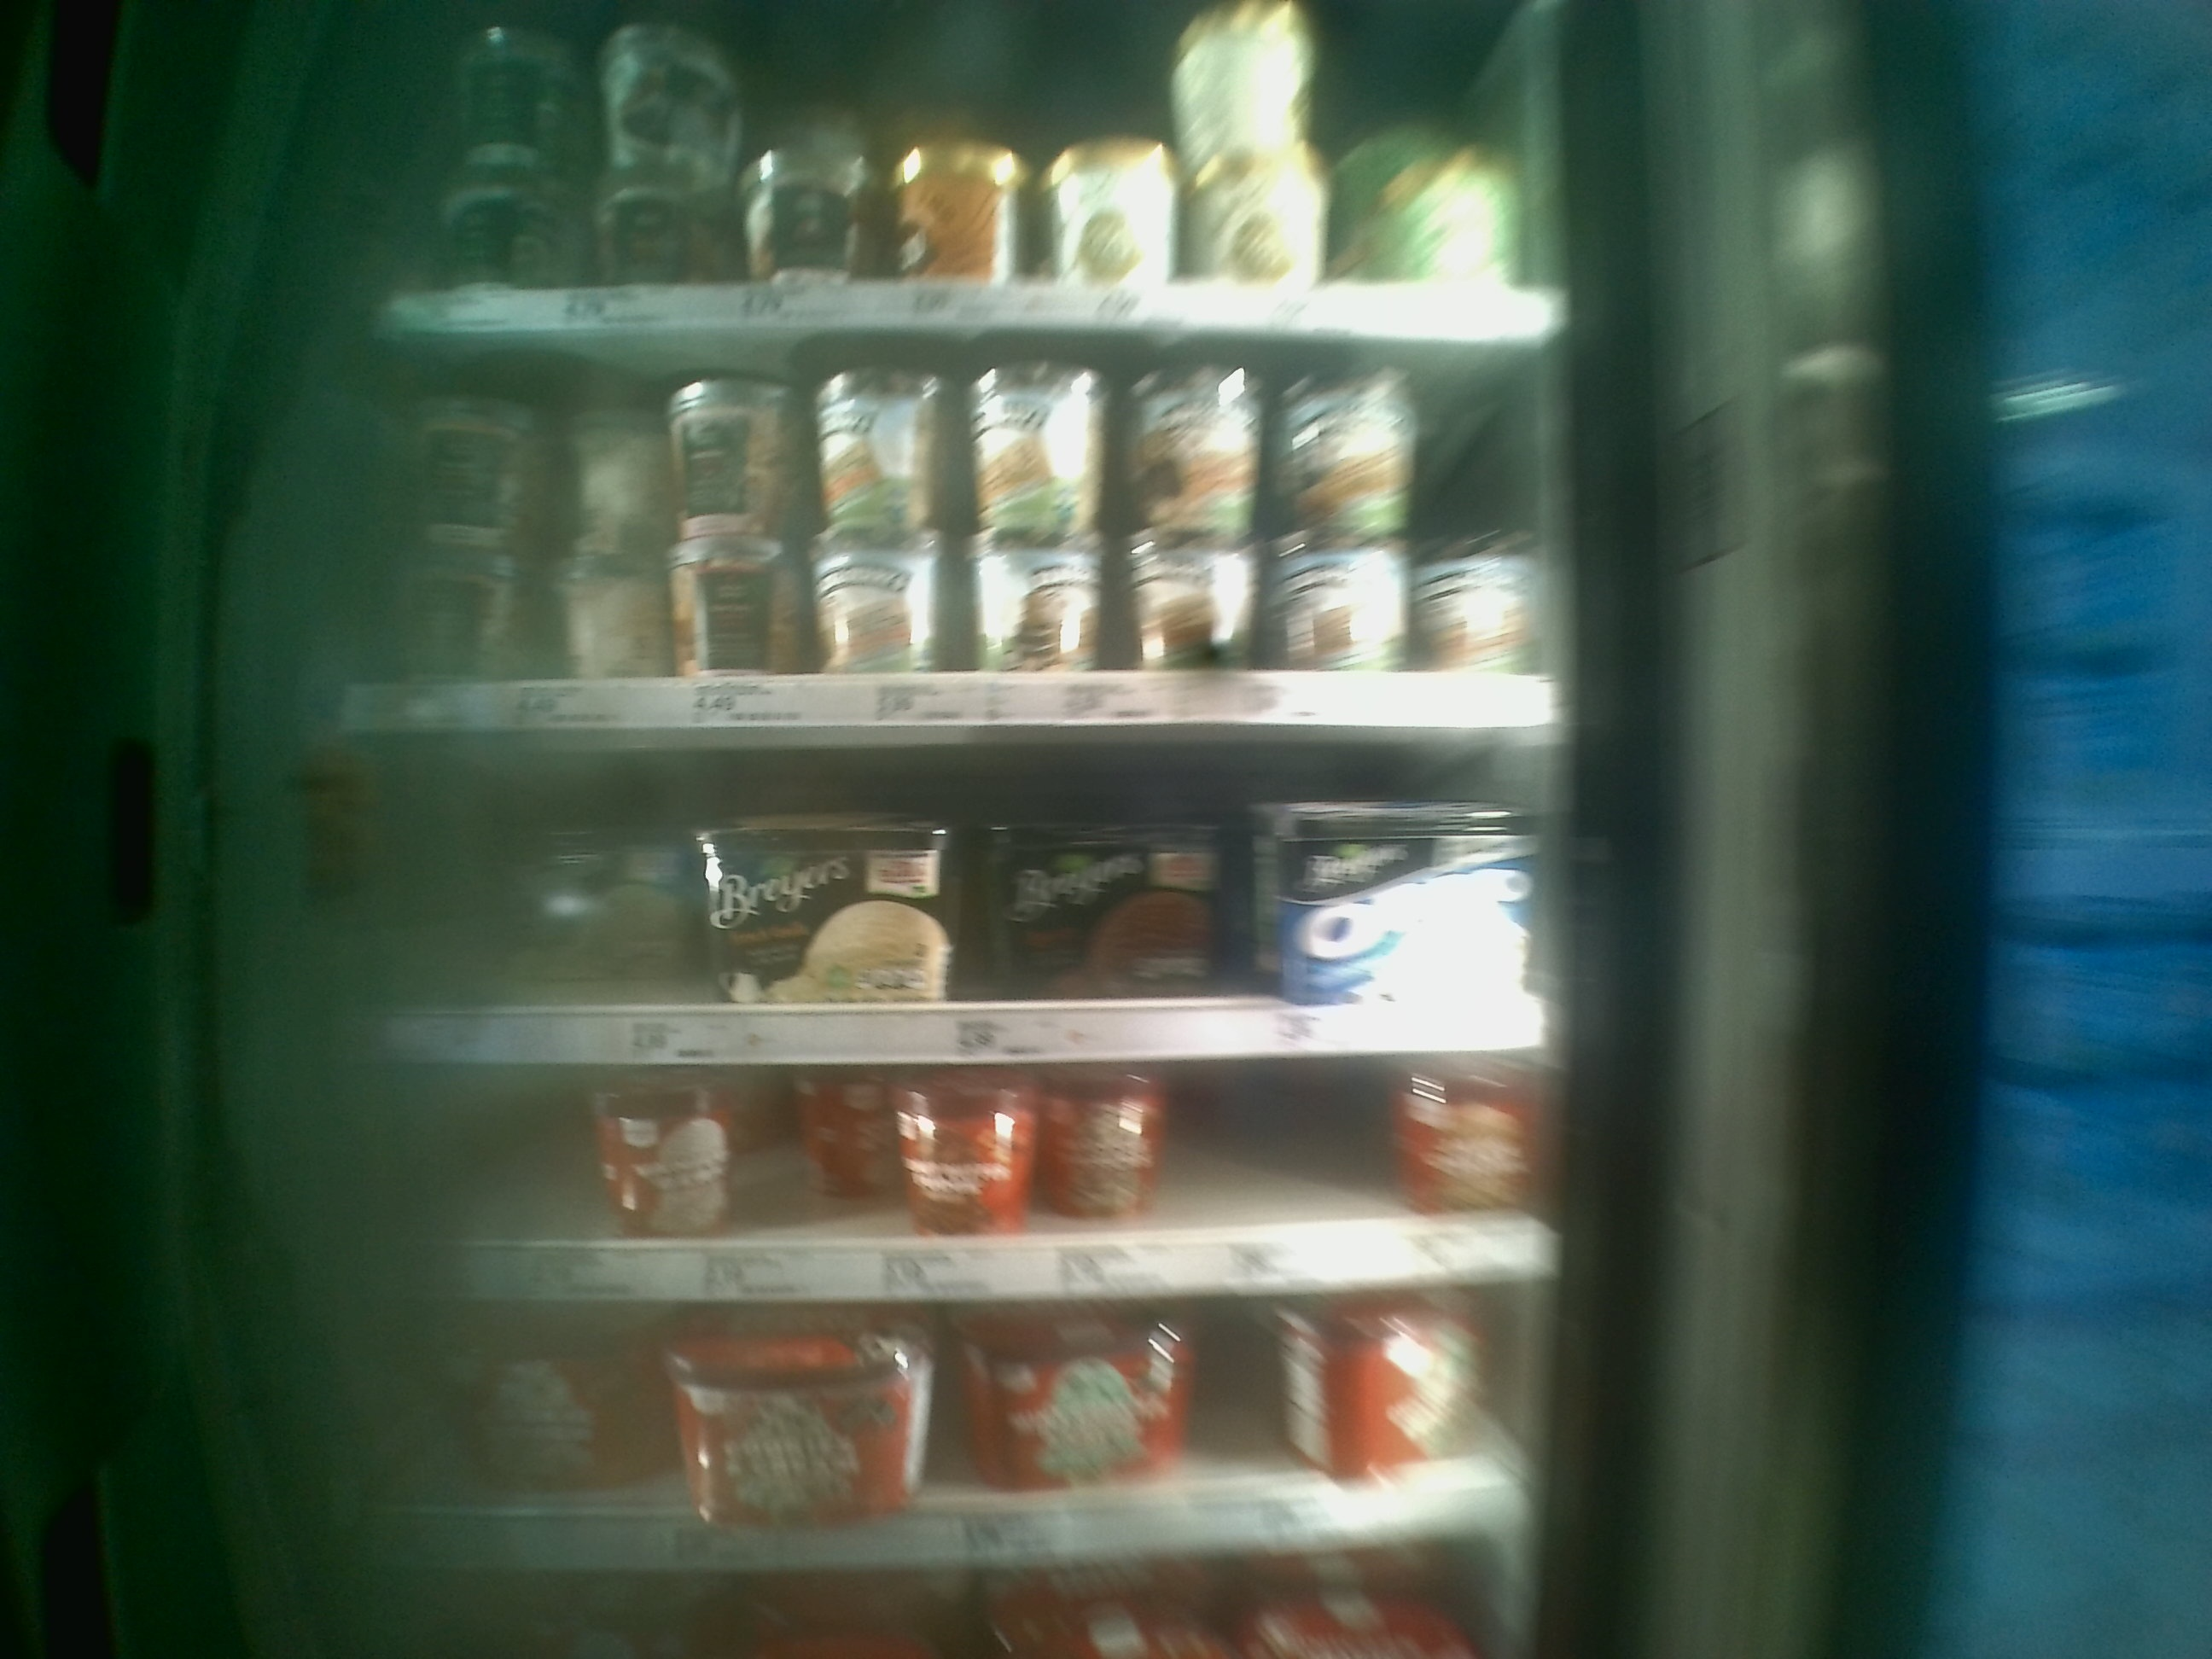ice-cream-shelf: (347, 347, 1547, 735), (361, 739, 1541, 1058)
